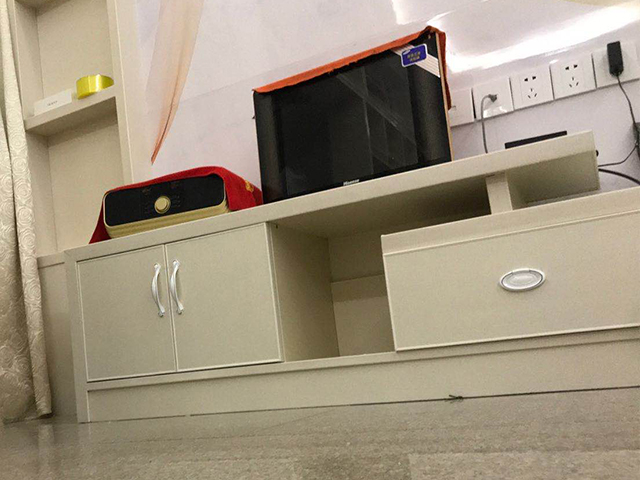cabinet: (35, 128, 640, 425)
curtain: (1, 5, 58, 420)
